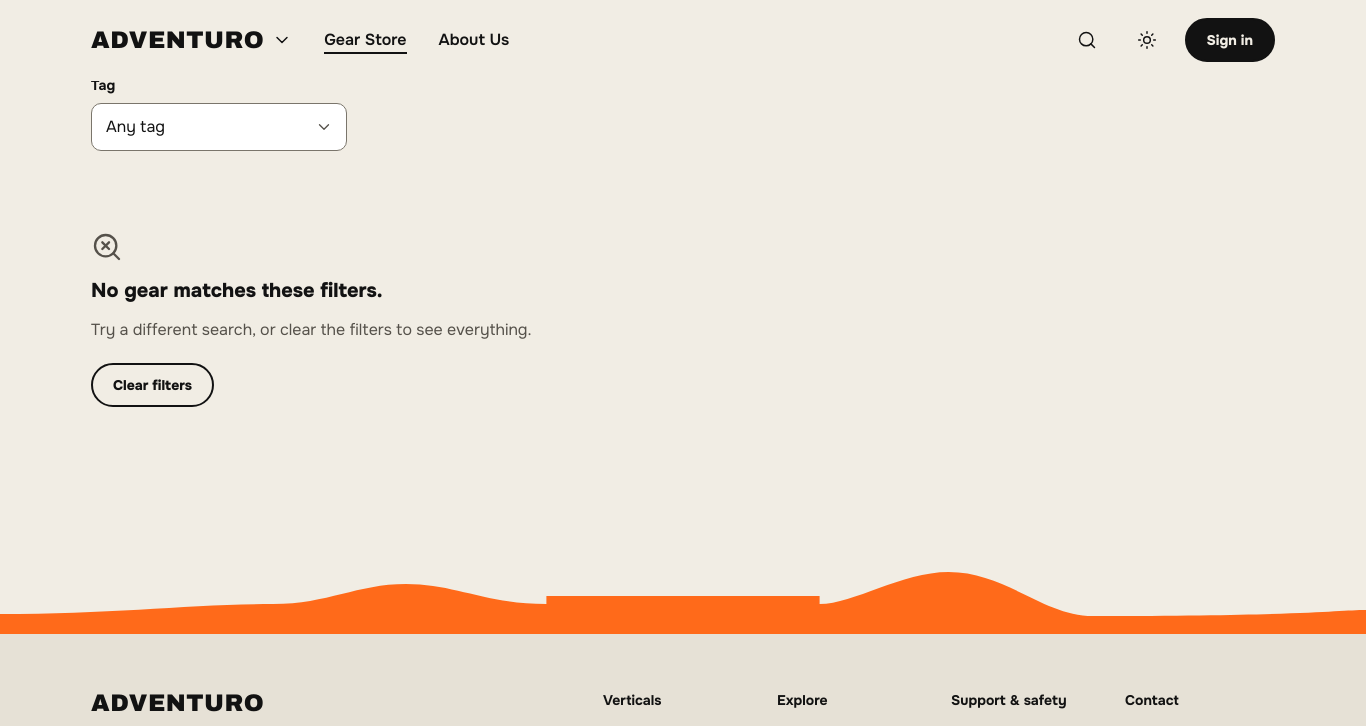
GearStorePage › offers to clear the filters when nothing matches
(page scrolled)
Expected: the heading "No gear matches these filters." is shown, [91,275,382,306]
Click the button "Clear filters" at point(152, 385), box [91,363,214,407]
(page scrolled)
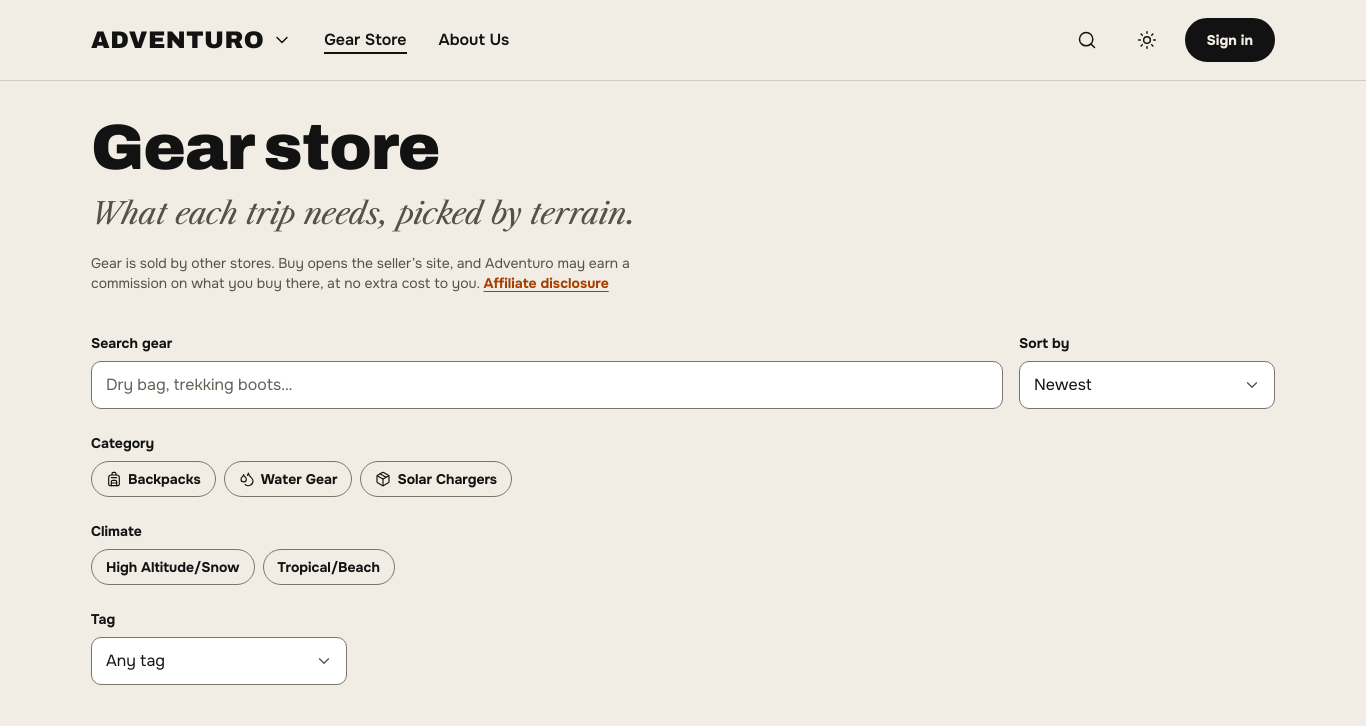
Result: the search field labelled "Search gear" is empty at [91,361,1003,409]
